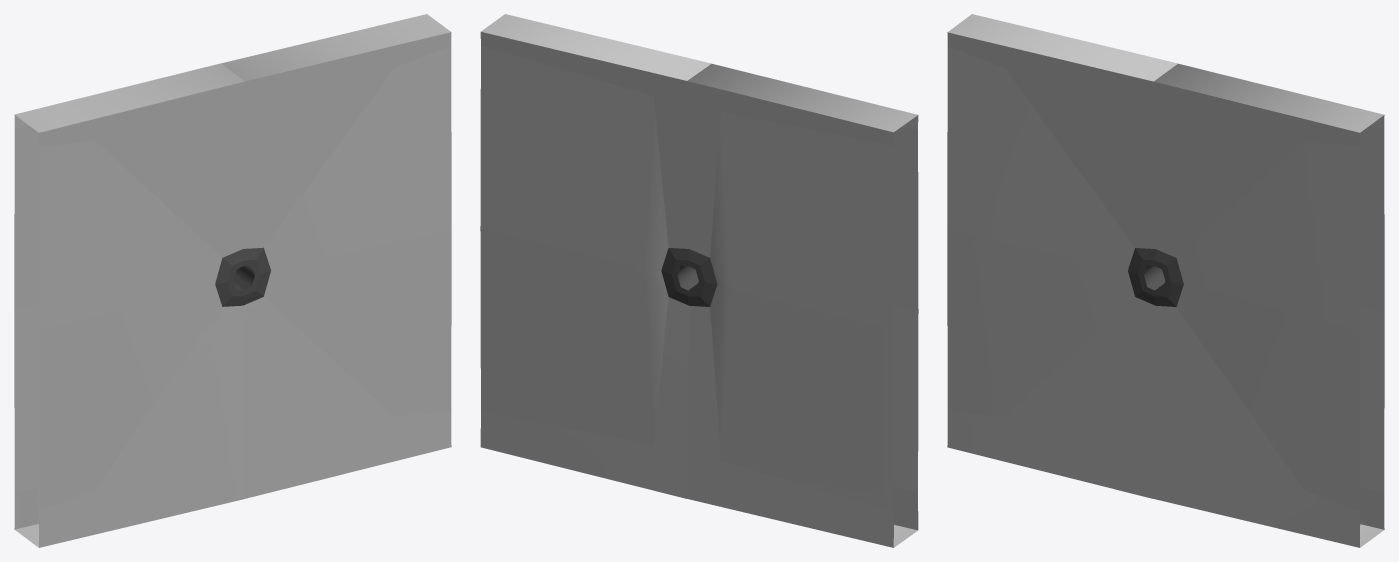
File: Door.fbx
3 renders of one model, left to right at view 1: azimuth 30°, elevation 25°; view 2: azimuth 150°, elevation 25°; view 3: azimuth 330°, elevation 25°, orthographic.
Visible parts, largest first — view 1: Door; view 2: Door; view 3: Door.
Part boxes in pixels (x1,y1,x2,y2): Door: (14,14,451,547); Door: (480,14,918,547); Door: (947,14,1384,547).
Size of the model in its own units: 3.07 by 2.97 by 0.3209.
Materials: 1 (1 with a texture image).
